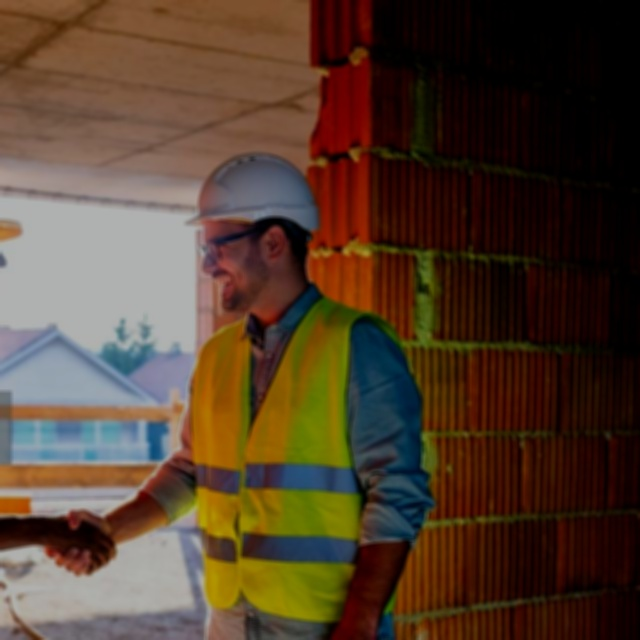Con_Casco: (186, 153, 323, 317)
Con_Chaleco: (194, 311, 402, 615)
